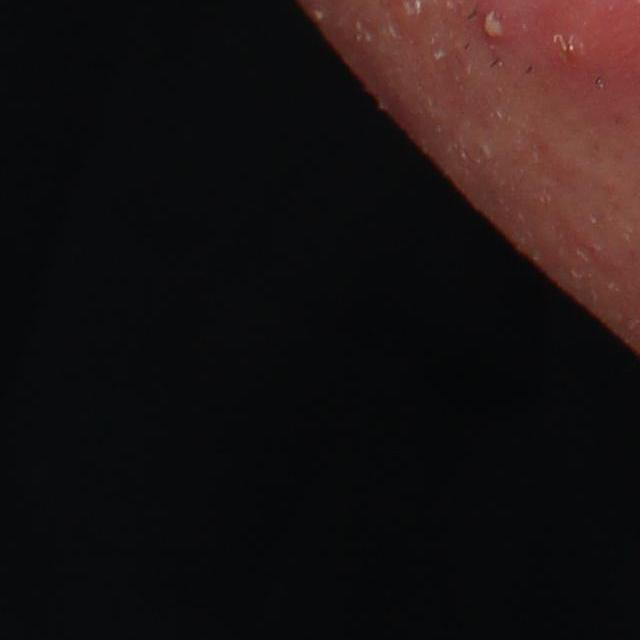pustule: (475, 3, 518, 50)
